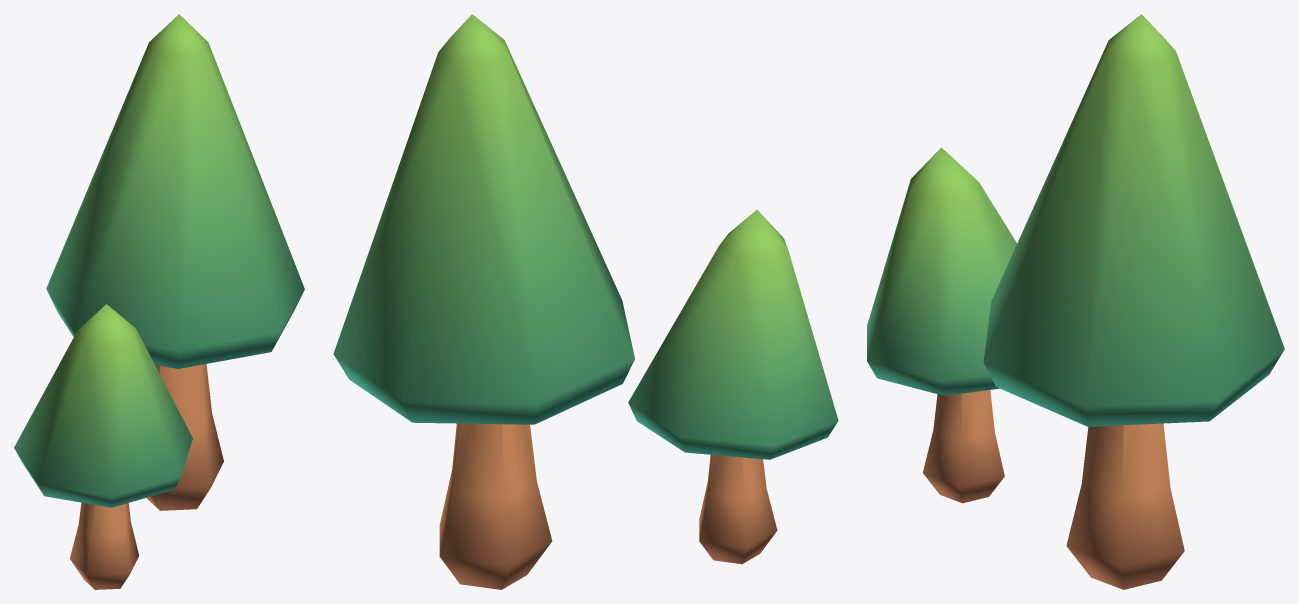
File: mushroom_cone_2.fbx
3 renders of one model, left to right at view 1: azimuth 30°, elevation 25°; view 2: azimuth 150°, elevation 25°; view 3: azimuth 270°, elevation 25°, orthographic. The views are drawn at different scales.
Parts seen in each view (by area): view 1: mushroom_cone_2.001; view 2: mushroom_cone_2.001; view 3: mushroom_cone_2.001.
Part boxes in pixels (x1,y1,x2,y2): mushroom_cone_2.001: (14, 14, 304, 589); mushroom_cone_2.001: (333, 14, 838, 589); mushroom_cone_2.001: (867, 14, 1284, 589).
Size of the model in its own units: 0.4097 by 0.571 by 0.3822.
